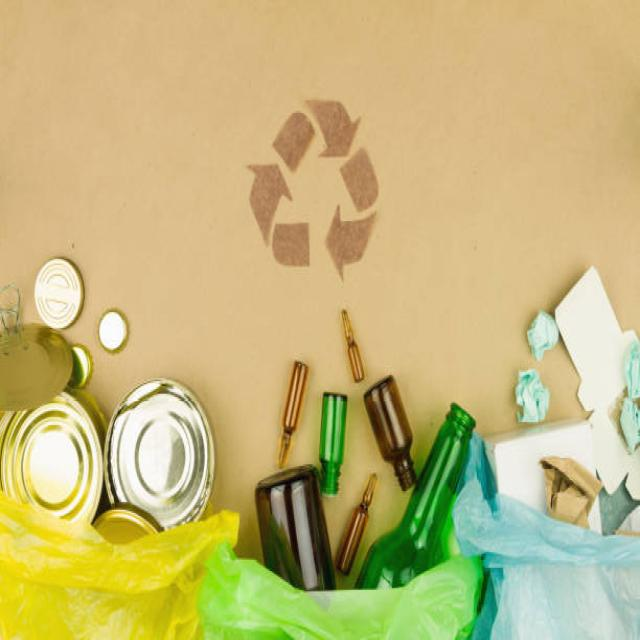cardboard: (481, 411, 623, 516)
glass: (255, 461, 348, 598), (365, 370, 428, 485)
metal: (5, 245, 216, 524)
